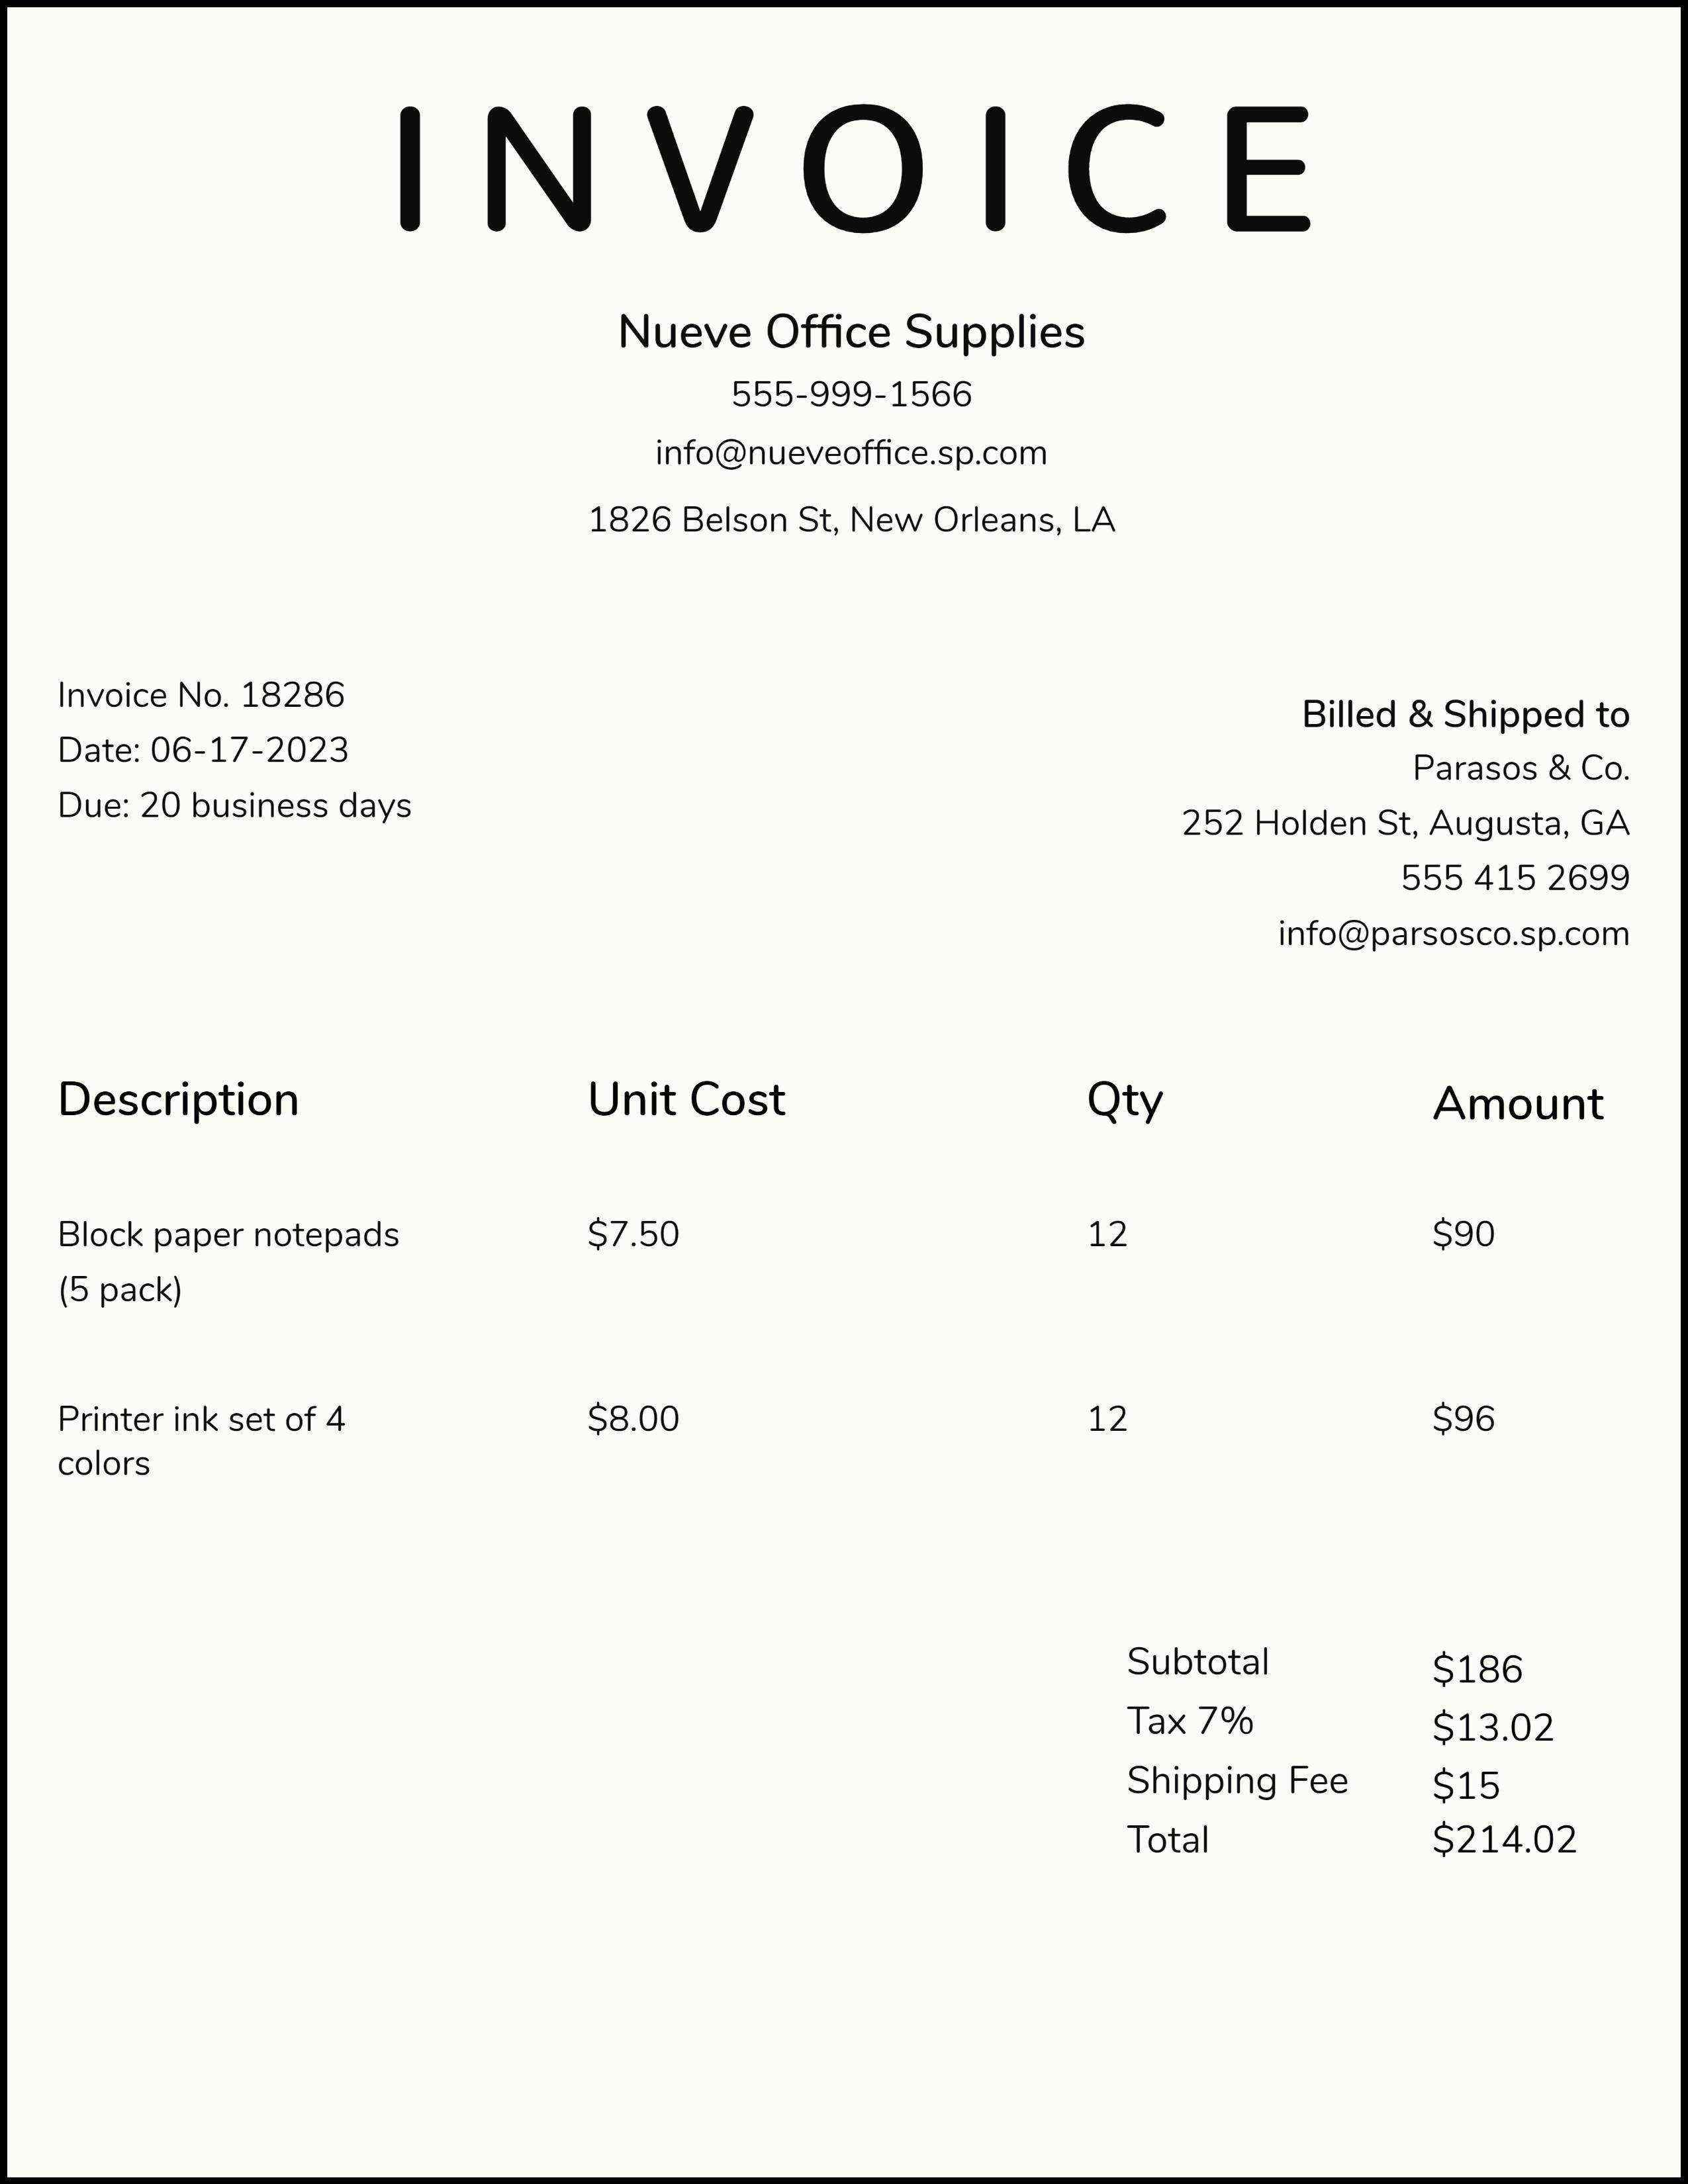ROI: (30, 1065, 1649, 1494), (555, 292, 1149, 558), (1176, 688, 1651, 968), (1124, 1633, 1585, 1863), (32, 663, 426, 849)
